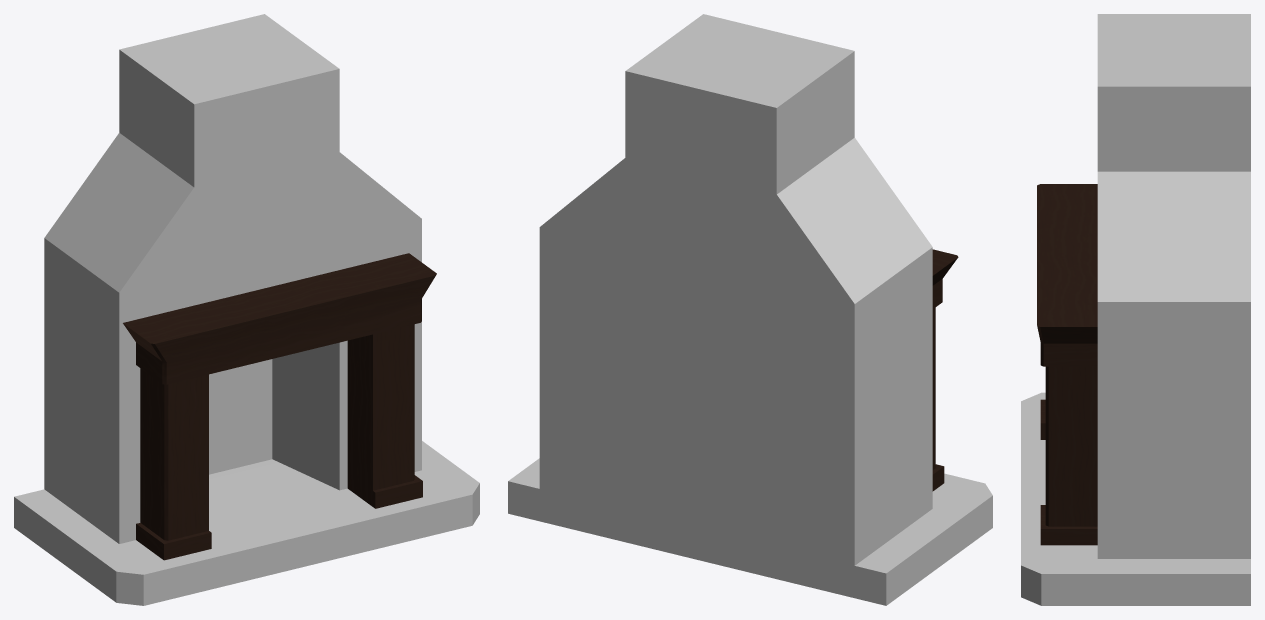
File: Fireplace_02A.FBX
3 renders of one model, left to right at view 1: azimuth 30°, elevation 25°; view 2: azimuth 150°, elevation 25°; view 3: azimuth 270°, elevation 25°, orthographic. The views are drawn at different scales.
Parts seen in each view (by area): view 1: Fireplace_Box; view 2: Fireplace_Box; view 3: Fireplace_Box.
Part boxes in pixels (x1=…): Fireplace_Box: x1=14, y1=14, x2=479, y2=605; Fireplace_Box: x1=508, y1=14, x2=992, y2=605; Fireplace_Box: x1=1021, y1=14, x2=1250, y2=605.
Size of the model in its own units: 16535 by 19685 by 8858.
